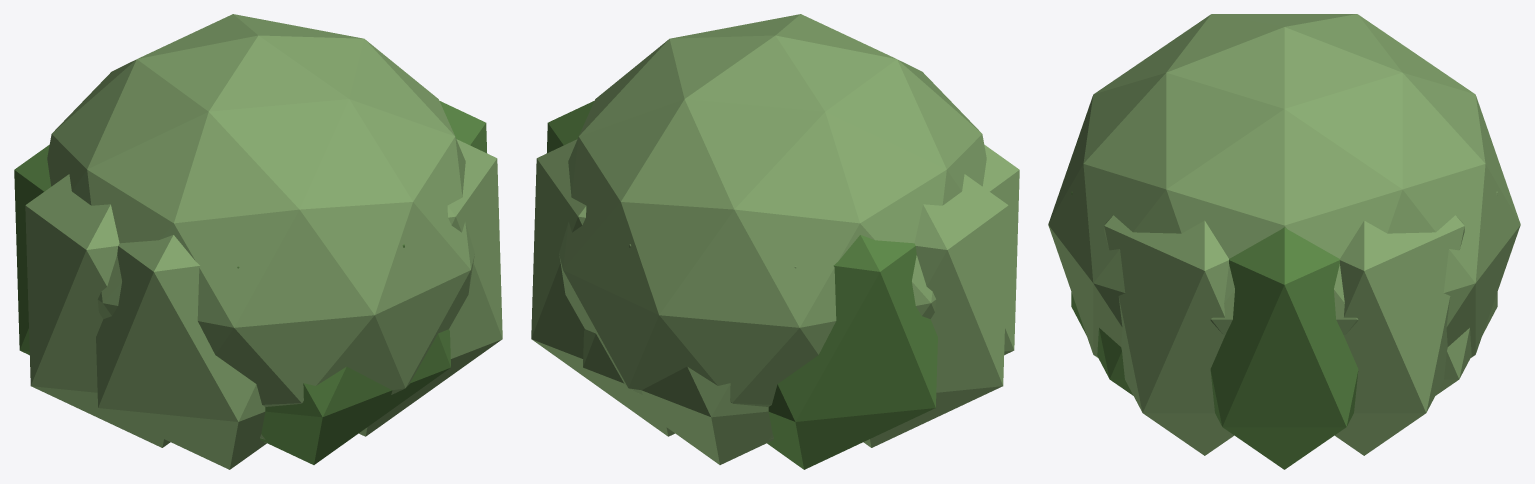
File: cabbage.fbx
3 views of the same model, side by side, from view 1: azimuth 30°, elevation 25°; view 2: azimuth 150°, elevation 25°; view 3: azimuth 270°, elevation 25° (orthographic).
Parts seen in each view (by area): view 1: cabbage; view 2: cabbage; view 3: cabbage.
Boxes of the visible parts, x1,y1,x2,y2 form: cabbage: (14, 14, 502, 469); cabbage: (531, 14, 1019, 469); cabbage: (1048, 14, 1520, 469).
Bounding box in the file's own units: 29.39 × 24 × 26.
